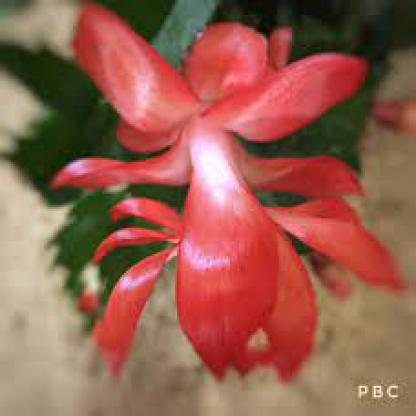Aglonema: (56, 43, 368, 383)
